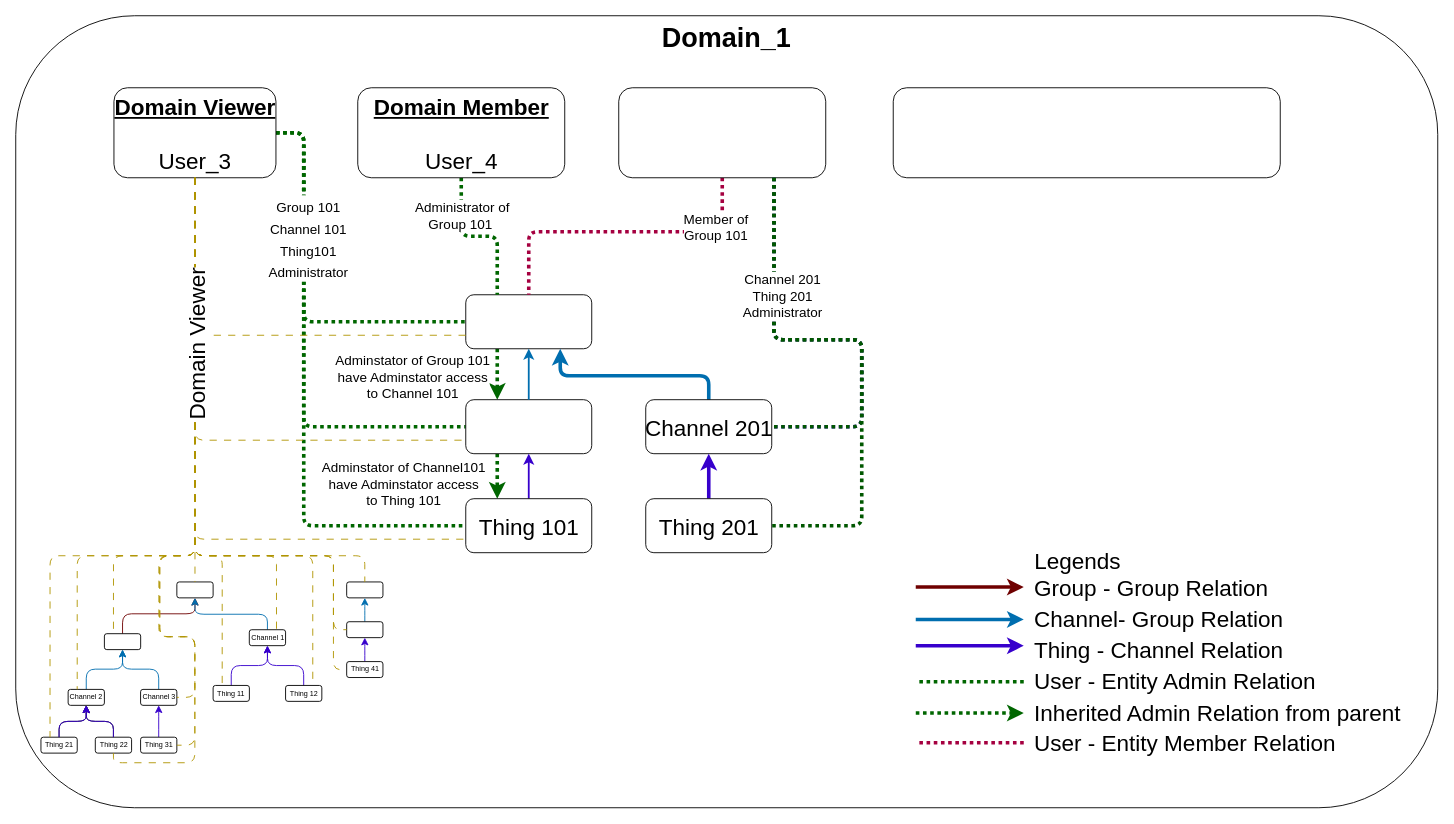
This 1454x824 diagram has some shape labels left out. Each missing label, with the centre of its shape:
Channel 101: pixel 528 426
Channel 4: pixel 364 629
Domain Member User_5, User_6, User_8, User_9: pixel 1086 132
Domain Member User_7: pixel 722 132
Group 1: pixel 194 589
Group 101: pixel 528 321
Group 12: pixel 122 641
Group 2: pixel 364 589
